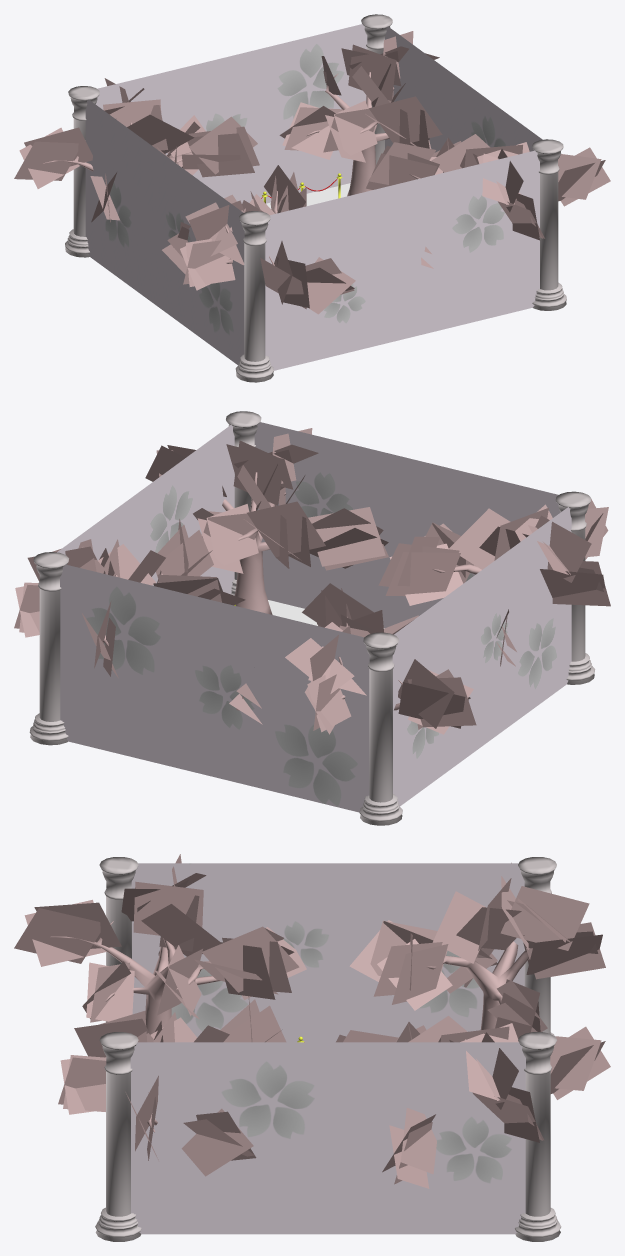
Rendered from Spring_room 2.fbx.
3 views of the same model, one above another, from view 1: azimuth 30°, elevation 25°; view 2: azimuth 150°, elevation 25°; view 3: azimuth 270°, elevation 25° (orthographic). The views are drawn at different scales.
Visible parts, largest first — view 1: stage, sakurawood.001, floar; view 2: stage, sakurawood.002, floar; view 3: stage, sakurawood.003, sakurawood.004.
Boxes of the visible parts, <box> form: stage: <box>14,14,610,382</box>; sakurawood.001: <box>306,72,394,196</box>; floar: <box>266,183,350,208</box>; stage: <box>14,411,610,825</box>; sakurawood.002: <box>222,472,286,614</box>; floar: <box>268,600,384,628</box>; stage: <box>14,854,610,1241</box>; sakurawood.003: <box>50,921,220,1034</box>; sakurawood.004: <box>427,941,529,1029</box>.
Bounding box in the file's own units: 1191 × 401 × 1128.
